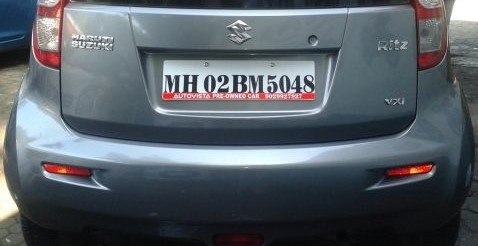MH02BM5048: (162, 60, 316, 100)
